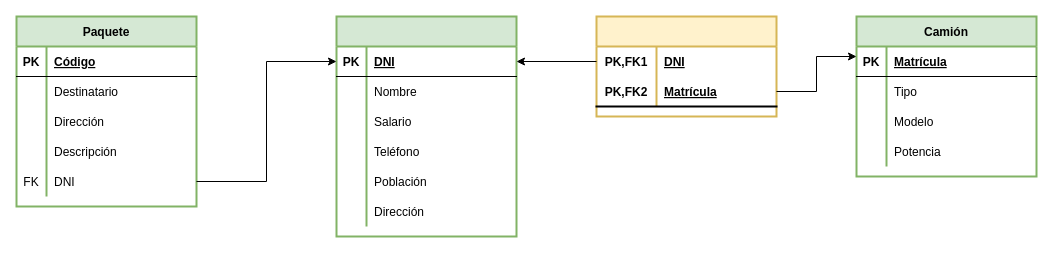
Image size: 1053x253. Some labels were removed from this diagram. The box of each missing label's shape, as (x1, y1, x2, y2) in pixels:
Camionero: (335, 15, 517, 237)
Conduce: (595, 15, 777, 117)
